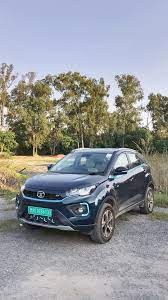Tata Nexon: (15, 145, 155, 250)
